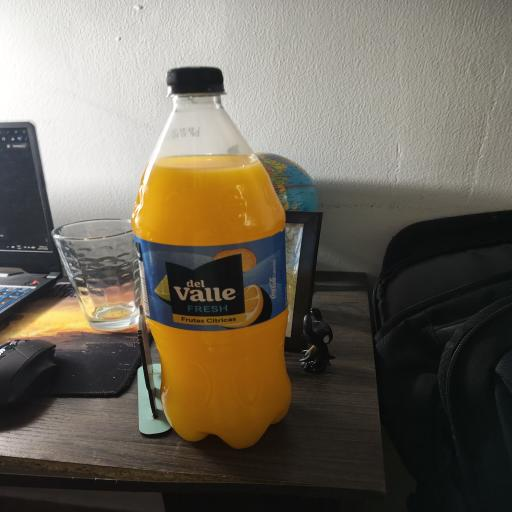Jugo del valle: (133, 68, 290, 448)
